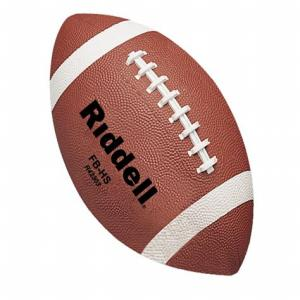Rugby: (50, 12, 254, 276)
